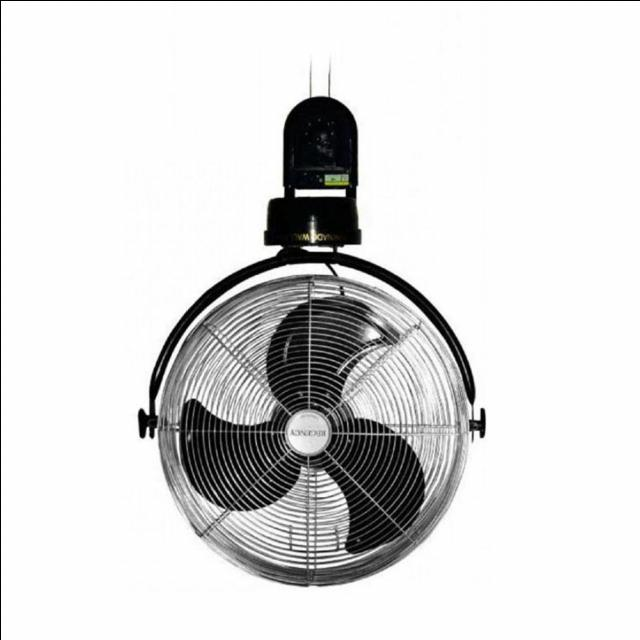fan: (133, 56, 486, 598)
